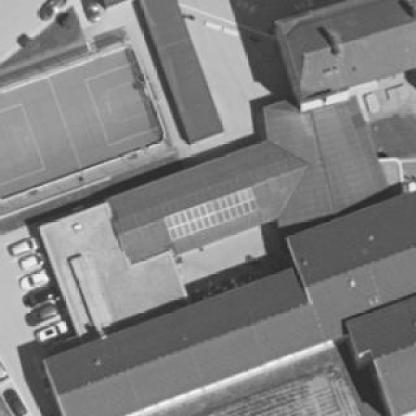solar-pv-panel: (164, 187, 258, 240)
